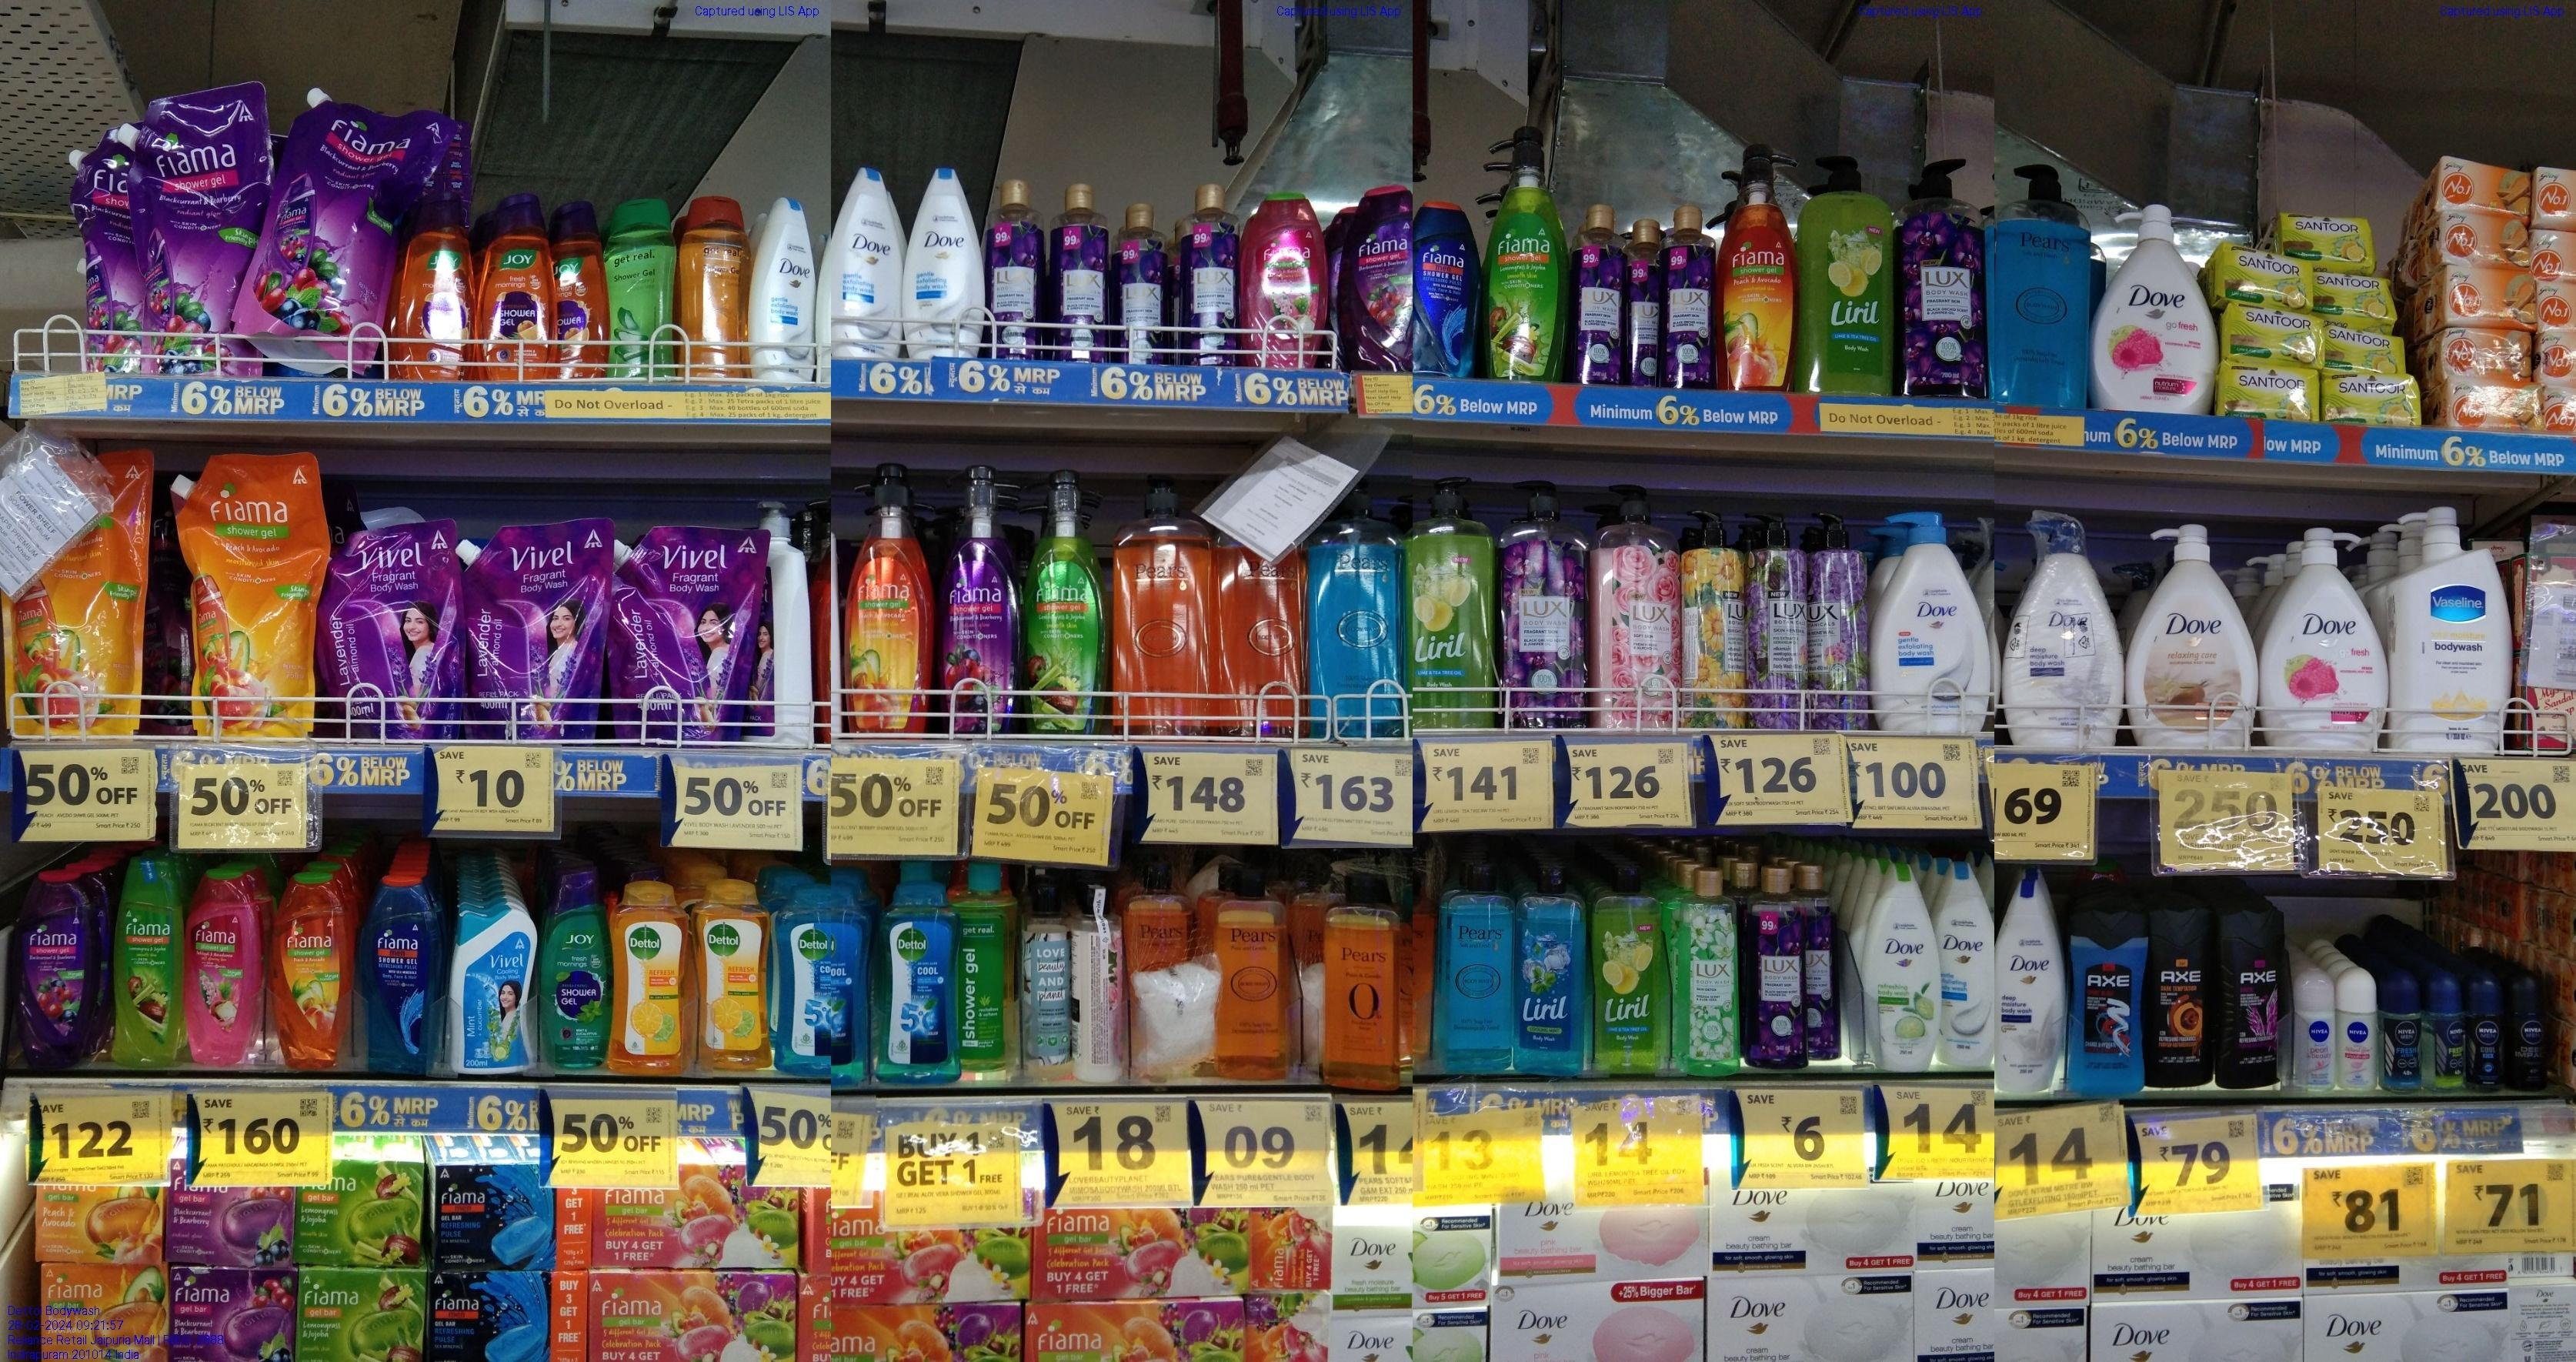Dettol_Bodywash_Cool: (883, 883, 961, 1086), (787, 881, 865, 1081)
Dettol_Bodywash_Refresh: (695, 878, 770, 1072), (613, 880, 685, 1079)
Dove_Deep_Moisture_Body_Wash_250ML: (2000, 876, 2068, 1101)
Dove_Gentle_Exfoliating_Body_Wash_250ML: (825, 165, 901, 361), (905, 167, 983, 358), (1939, 863, 1998, 1076), (756, 193, 814, 389)
Dove_Refreshing_Body_Wash_250ML: (1867, 857, 1937, 1077)
Fiama_Shower_Gel_Lemongrass_and_Jojoba_250ML: (116, 857, 182, 1069)
Fiama_Shower_Gel_Patchouli_and_Macadamia_250ML: (187, 871, 257, 1069), (1247, 189, 1324, 366)
Fiama_Shower_Gel_Peach_and_Avocado_250ML: (274, 869, 349, 1071)
Joy_Shower_Gel_Mandarin_and_Lemongrass_250ML: (482, 189, 555, 382), (404, 193, 475, 382), (555, 196, 610, 378)
Joy_Shower_Gel_Mint_and_Eucalyptus_250ML: (538, 869, 612, 1069)
Liril_Cooling_Mint_Body_Wash_250ML: (1518, 861, 1584, 1076)
Liril_Lime_and_Tea_Tree_Oil_Body_Wash_250ML: (1593, 866, 1668, 1074)
Lux_Black_Orchid_Scent_and_Juniper_Oil_Body_Wash_245ML: (1745, 866, 1809, 1072), (1176, 182, 1242, 370), (1046, 181, 1113, 363), (1663, 201, 1721, 392), (985, 179, 1043, 366), (1573, 205, 1625, 387), (1116, 201, 1170, 366), (1629, 213, 1659, 389)
Lux_Body_Wash_Skin_Detox_Freesia_Scent_and_Alove_Vera_245ML: (1676, 869, 1739, 1079)
Pears_Pure_Glycerin_and_Mint_Extracts_Body_Wash_250ML: (1436, 857, 1508, 1077)
